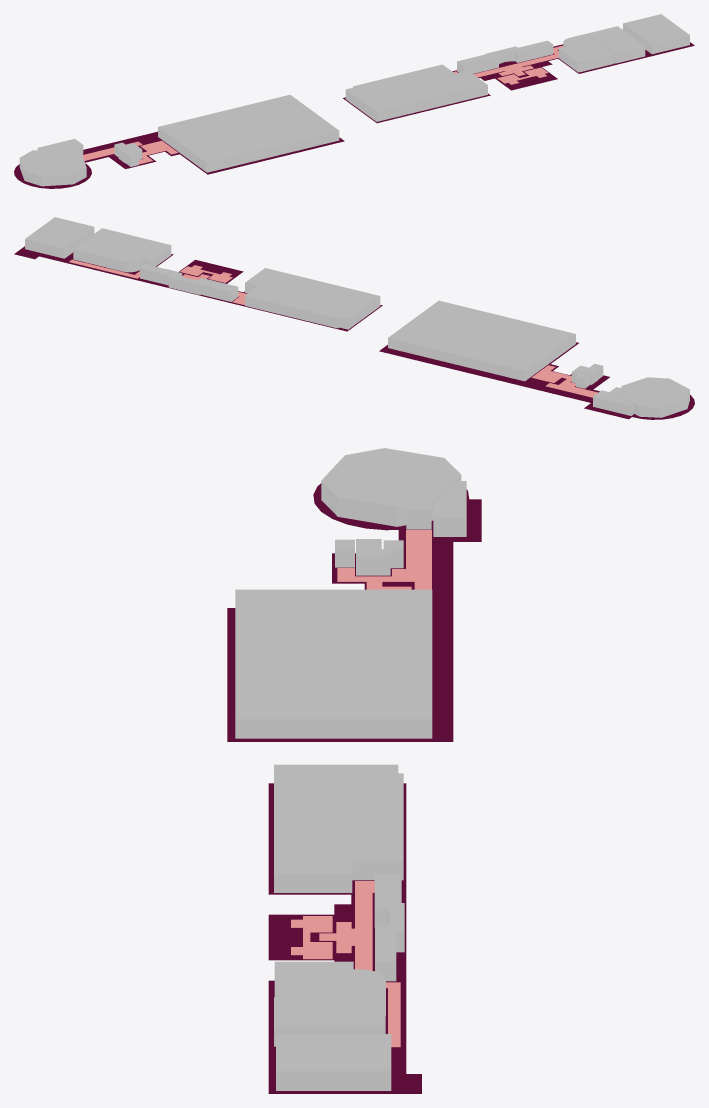
File: njc-b2-v3-11-4.glb
3 renders of one model, top to bottom at view 1: azimuth 30°, elevation 25°; view 2: azimuth 150°, elevation 25°; view 3: azimuth 270°, elevation 25°, orthographic. The views are drawn at different scales.
Visible parts, largest first — view 1: None, Gym, Base, Foot, Mtoilet, Ftoilet; view 2: None, Gym, Base, Foot, Ftoilet, Mtoilet; view 3: None, Base, Gym, Foot, Mtoilet, Ftoilet, Ftoilet.001.
Part boxes in pixels (left/top/right/bottom): None: left=19, top=14, right=689, bottom=186; Gym: left=345, top=64, right=487, bottom=121; Base: left=14, top=42, right=694, bottom=188; Foot: left=82, top=45, right=563, bottom=164; Mtoilet: left=501, top=40, right=553, bottom=62; Ftoilet: left=457, top=50, right=503, bottom=73; None: left=25, top=217, right=689, bottom=417; Gym: left=245, top=268, right=380, bottom=329; Base: left=14, top=246, right=694, bottom=419; Foot: left=69, top=259, right=597, bottom=397; Ftoilet: left=184, top=278, right=238, bottom=301; Mtoilet: left=140, top=264, right=187, bottom=290; None: left=235, top=448, right=466, bottom=1090; Base: left=227, top=483, right=481, bottom=1093; Gym: left=274, top=764, right=403, bottom=892; Foot: left=291, top=530, right=431, bottom=1047; Mtoilet: left=375, top=918, right=404, bottom=981; Ftoilet: left=374, top=874, right=404, bottom=927; Ftoilet.001: left=356, top=539, right=390, bottom=575.
Size of what is drawn, in the model's own units: 13.59 by 0.2 by 2.32.
